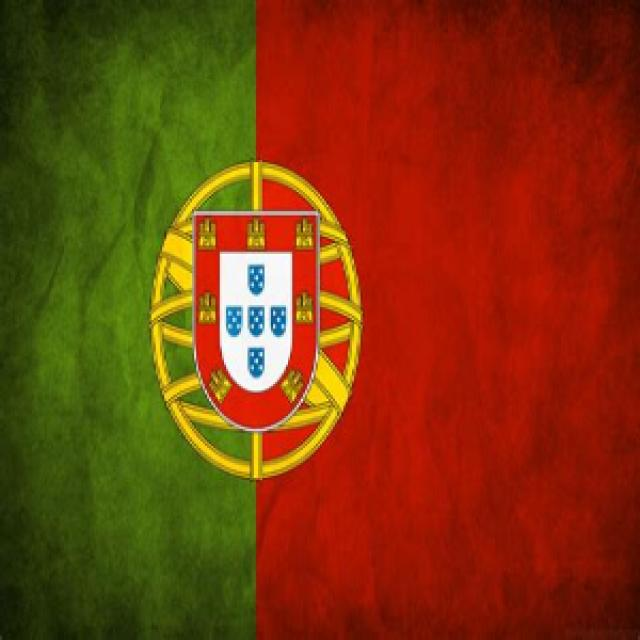portugal: (35, 88, 640, 640)
